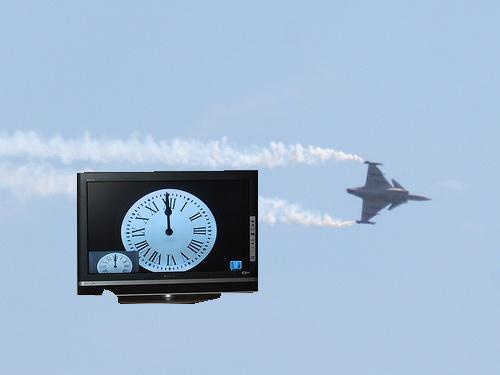tampered: (78, 171, 258, 304)
